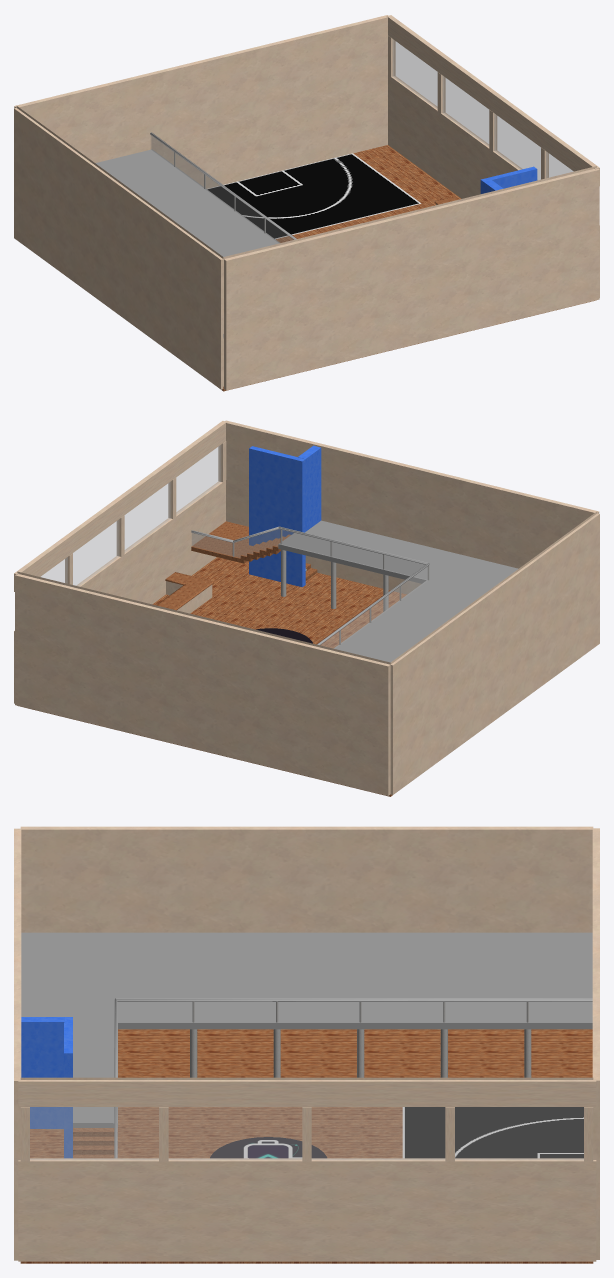
3 renders of one model, top to bottom at view 1: azimuth 30°, elevation 25°; view 2: azimuth 150°, elevation 25°; view 3: azimuth 270°, elevation 25°, orthographic. The views are drawn at different scales.
Visible parts, largest first — view 1: VIS_wall_south, VIS_wall_north, VIS_wall_west, VIS_court, VIS_wall_east_sill, VIS_balcony_west, VIS_wall_east_lintel, VIS_floor, VIS_wall_east_glass_3, VIS_wall_east_glass_4, VIS_ceiling, VIS_wall_east_glass_2 (+2 smaller); view 2: VIS_wall_north, VIS_wall_west, VIS_wall_south, VIS_floor, VIS_wall_east_sill, VIS_balcony_west, VIS_stairs_divider, VIS_balcony_south, VIS_wall_east_lintel, VIS_wall_east_glass_3, VIS_wall_east_glass_2, VIS_wall_east_glass_1 (+10 smaller); view 3: VIS_wall_west, VIS_wall_east_sill, VIS_balcony_west, VIS_floor, VIS_wall_east_lintel, VIS_court, VIS_wall_east_glass_2, VIS_wall_east_glass_3, VIS_wall_east_glass_1, VIS_wall_east_glass_4, VIS_balcony_stair_wall, VIS_balcony_south (+13 smaller).
Part boxes in pixels (<box>): VIS_wall_south: <box>224,169,599,390</box>; VIS_wall_north: <box>14,15,387,188</box>; VIS_wall_west: <box>14,108,223,389</box>; VIS_court: <box>207,153,421,239</box>; VIS_wall_east_sill: <box>388,75,599,297</box>; VIS_balcony_west: <box>95,149,279,338</box>; VIS_wall_east_lintel: <box>386,15,599,185</box>; VIS_floor: <box>221,145,594,391</box>; VIS_wall_east_glass_3: <box>443,76,488,146</box>; VIS_wall_east_glass_4: <box>393,39,437,108</box>; VIS_ceiling: <box>16,106,596,261</box>; VIS_wall_east_glass_2: <box>494,114,540,179</box>; VIS_wall_north: <box>15,574,390,795</box>; VIS_wall_west: <box>390,513,599,794</box>; VIS_wall_south: <box>225,420,599,594</box>; VIS_floor: <box>17,557,406,796</box>; VIS_wall_east_sill: <box>14,480,225,703</box>; VIS_balcony_west: <box>334,555,518,662</box>; VIS_stairs_divider: <box>249,446,305,587</box>; VIS_balcony_south: <box>278,520,461,583</box>; VIS_wall_east_lintel: <box>14,421,226,591</box>; VIS_wall_east_glass_3: <box>73,520,119,586</box>; VIS_wall_east_glass_2: <box>125,482,170,551</box>; VIS_wall_east_glass_1: <box>176,445,220,514</box>; VIS_wall_west: <box>20,826,593,932</box>; VIS_wall_east_sill: <box>18,1158,596,1261</box>; VIS_balcony_west: <box>21,932,592,1029</box>; VIS_floor: <box>20,1029,593,1263</box>; VIS_wall_east_lintel: <box>18,1078,596,1106</box>; VIS_court: <box>402,1107,583,1158</box>; VIS_wall_east_glass_2: <box>169,1107,301,1159</box>; VIS_wall_east_glass_3: <box>312,1107,444,1159</box>; VIS_wall_east_glass_1: <box>30,1107,158,1159</box>; VIS_wall_east_glass_4: <box>455,1107,583,1159</box>; VIS_balcony_stair_wall: <box>21,1017,64,1128</box>; VIS_balcony_south: <box>46,1023,117,1129</box>.
Size of the model in its own units: 25.32 by 8.6 by 24.55.
Materials: 9 (6 with a texture image).
